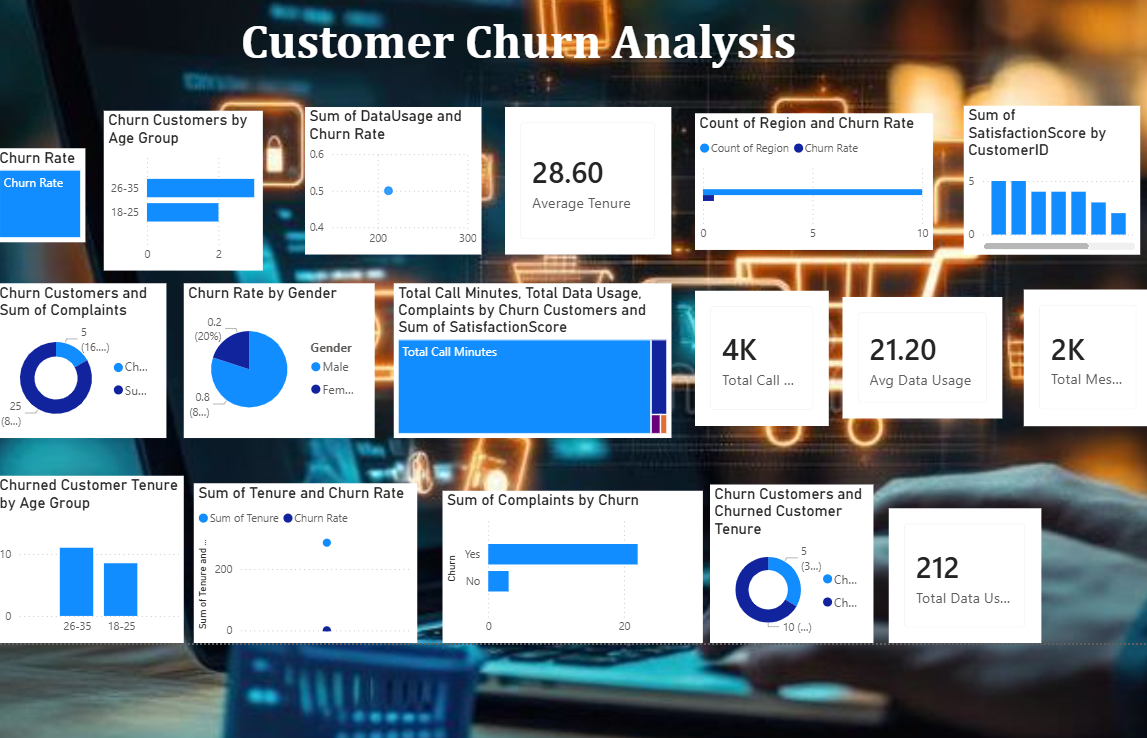

The dashboard page shown, as its layout file describes it:
{"tool":"powerbi","page":{"name":"Page 1","canvas":[1280,720],"ordinal":0},"visuals":[{"type":"textbox","box":[266.2,17.8,746.5,89.2],"z":0},{"type":"clusteredBarChart","fields":{"Y":["CountNonNull(Customer.Region)","Customer.Churn Rate"]},"box":[773.9,134.5,263.5,150.9],"z":1000},{"type":"donutChart","fields":{"Y":["Customer.Churn Customers","Customer.Churned Customer Tenure"]},"box":[790.4,544.8,181.1,175.6],"z":2000},{"type":"clusteredColumnChart","fields":{"Category":["Customer.Age Group"],"Y":["Customer.Churned Customer Tenure"]},"box":[0,535.2,208.6,185.2],"z":3000},{"type":"scatterChart","fields":{"X":["Sum(Usage.DataUsage)"],"Y":["Customer.Churn Rate"]},"box":[343.1,127.6,194.9,163.3],"z":4000},{"type":"lineClusteredColumnComboChart","fields":{"Y":["Sum(Feedback.SatisfactionScore)"],"Category":["Feedback.CustomerID"]},"box":[1071.7,126.2,194.9,164.7],"z":5000},{"type":"barChart","fields":{"Category":["Customer.Churn"],"Y":["Sum(Feedback.Complaints)"]},"box":[495.4,551.6,288.2,168.8],"z":6000},{"type":"lineChart","fields":{"Y":["Sum(Customer.Tenure)","Customer.Churn Rate"]},"box":[219.6,543.4,247,177],"z":7000},{"type":"cardVisual","fields":{"Data":["Customer.Average Tenure"]},"box":[564,127.6,183.9,163.3],"z":8000},{"type":"cardVisual","fields":{"Data":["Usage.Total Call Minutes"]},"box":[773.9,330.7,148.2,149.6],"z":9000},{"type":"cardVisual","fields":{"Data":["Usage.Total Data Usage"]},"box":[988,570.8,168.8,149.6],"z":10000},{"type":"cardVisual","fields":{"Data":["Usage.Total Messages"]},"box":[1137.6,329.3,142.7,150.9],"z":11000},{"type":"cardVisual","fields":{"Data":["Usage.Avg Data Usage"]},"box":[937.2,337.6,177,134.5],"z":14000},{"type":"clusteredBarChart","fields":{"Category":["Customer.Age Group"],"Y":["Customer.Churn Customers"]},"box":[120.8,131.7,175.6,177],"z":14001},{"type":"treemap","fields":{"Values":["Customer.Churn Rate"]},"box":[0,172.9,100.2,104.3],"z":14003},{"type":"donutChart","fields":{"Y":["Customer.Churn Customers","Sum(Feedback.Complaints)"]},"box":[0,322.5,189.4,171.5],"z":14004},{"type":"treemap","fields":{"Values":["Usage.Total Call Minutes","Usage.Total Data Usage","Feedback.Complaints by Churn Customers","Sum(Feedback.SatisfactionScore)"]},"box":[440.5,322.5,307.4,171.5],"z":14005},{"type":"pieChart","fields":{"Category":["Customer.Gender"],"Y":["Customer.Churn Rate"]},"box":[208.6,322.5,211.3,171.5],"z":14006}]}

Visuals, with their boxes in screenshot pixels (x1, y1, x2, y2):
textbox: region(229, 0, 913, 80)
clusteredBarChart - CountNonNull(Customer.Region) x Customer.Churn Rate: region(694, 105, 936, 244)
donutChart - Customer.Churn Customers x Customer.Churned Customer Tenure: region(709, 481, 875, 642)
clusteredColumnChart - Customer.Age Group x Customer.Churned Customer Tenure: region(0, 472, 176, 642)
scatterChart - Sum(Usage.DataUsage) x Customer.Churn Rate: region(299, 99, 478, 249)
lineClusteredColumnComboChart - Sum(Feedback.SatisfactionScore) x Feedback.CustomerID: region(967, 98, 1146, 249)
barChart - Customer.Churn x Sum(Feedback.Complaints): region(439, 487, 703, 642)
lineChart - Sum(Customer.Tenure) x Customer.Churn Rate: region(186, 480, 413, 642)
cardVisual - Customer.Average Tenure: region(502, 99, 670, 249)
cardVisual - Usage.Total Call Minutes: region(694, 285, 830, 422)
cardVisual - Usage.Total Data Usage: region(890, 505, 1045, 642)
cardVisual - Usage.Total Messages: region(1027, 284, 1146, 422)
cardVisual - Usage.Avg Data Usage: region(844, 291, 1006, 415)
clusteredBarChart - Customer.Age Group x Customer.Churn Customers: region(96, 103, 257, 265)
treemap - Customer.Churn Rate: region(0, 140, 77, 236)
donutChart - Customer.Churn Customers x Sum(Feedback.Complaints): region(0, 278, 159, 435)
treemap - Usage.Total Call Minutes x Usage.Total Data Usage: region(389, 278, 670, 435)
pieChart - Customer.Gender x Customer.Churn Rate: region(176, 278, 370, 435)
